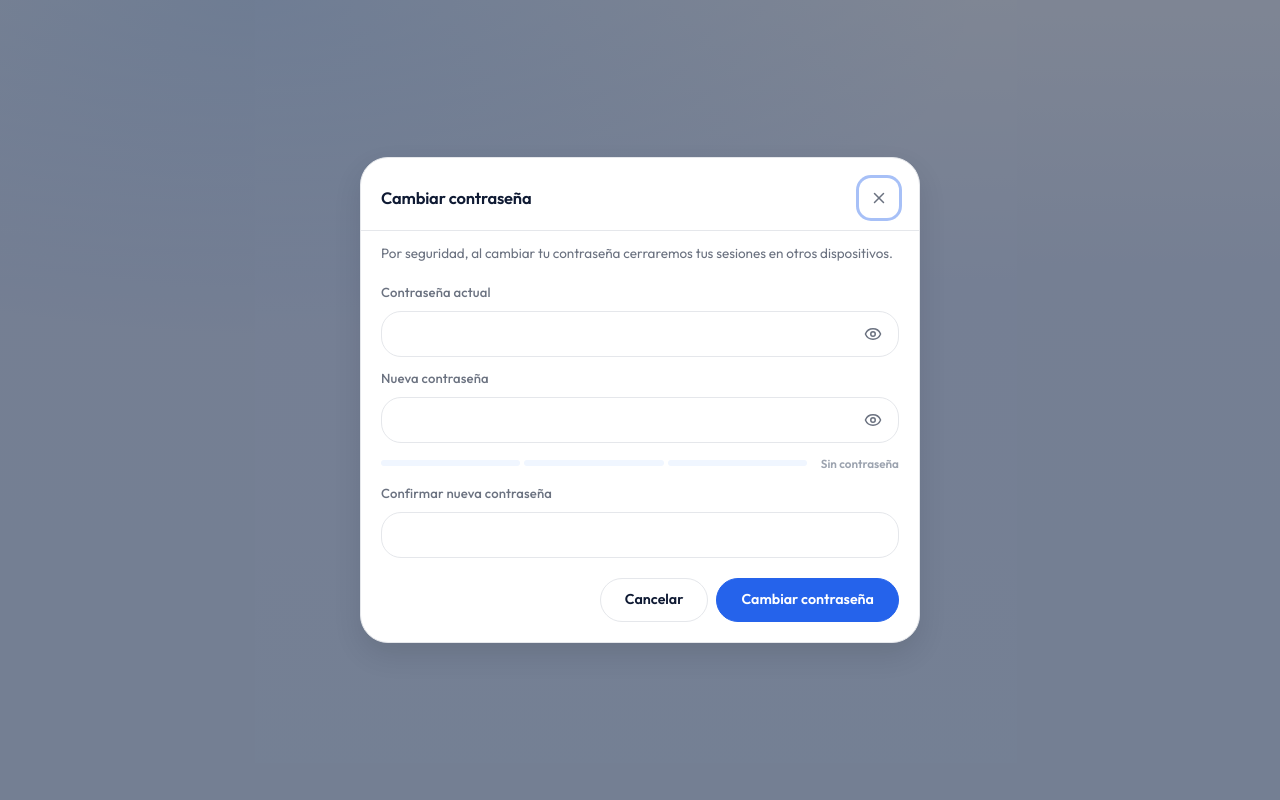
Scenario: CambiarPasswordModal › rechaza si las contraseñas nueva y confirmar no coinciden
The image size is (1280, 800).
In the password field labelled "Contraseña actual": (619, 334) [382,312,856,356], type "AnteriorPwd1"
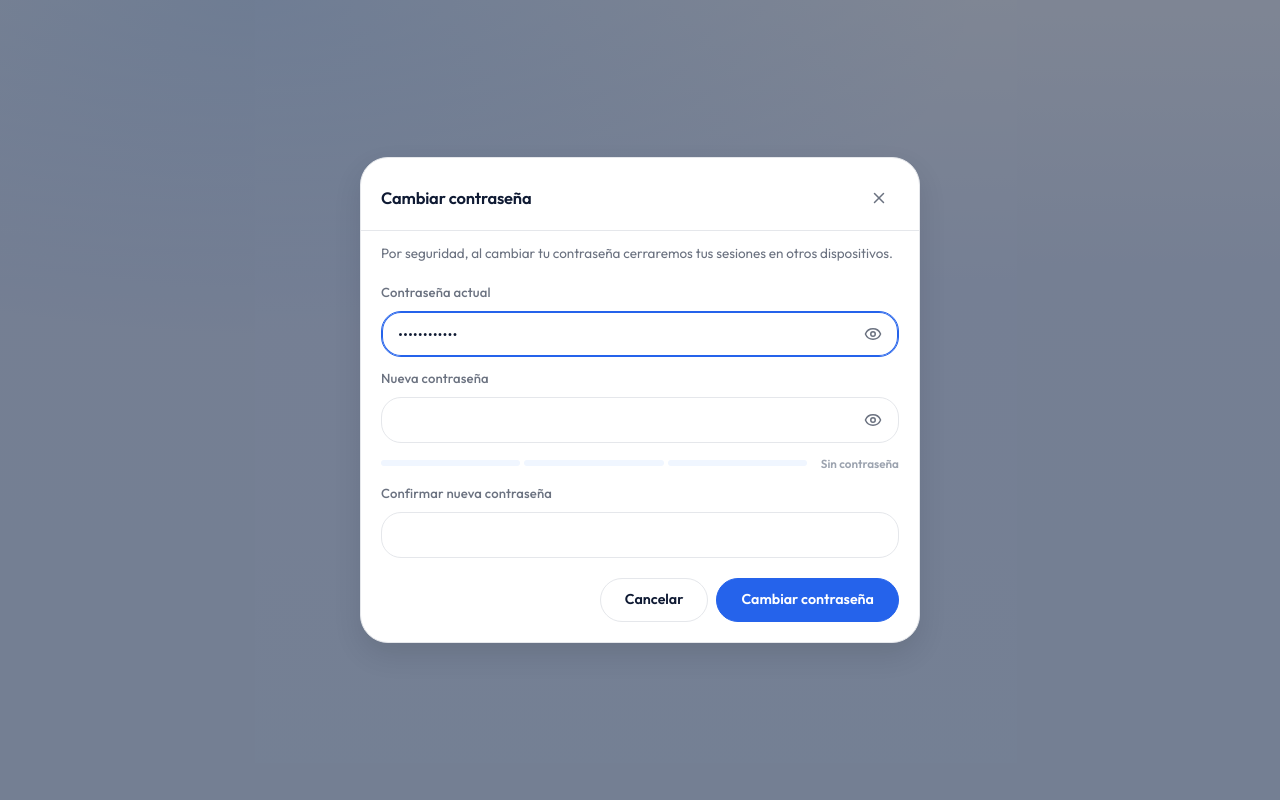
In the password field labelled "Nueva contraseña": (619, 420) [382,398,856,442], type "NuevaSecreta123"
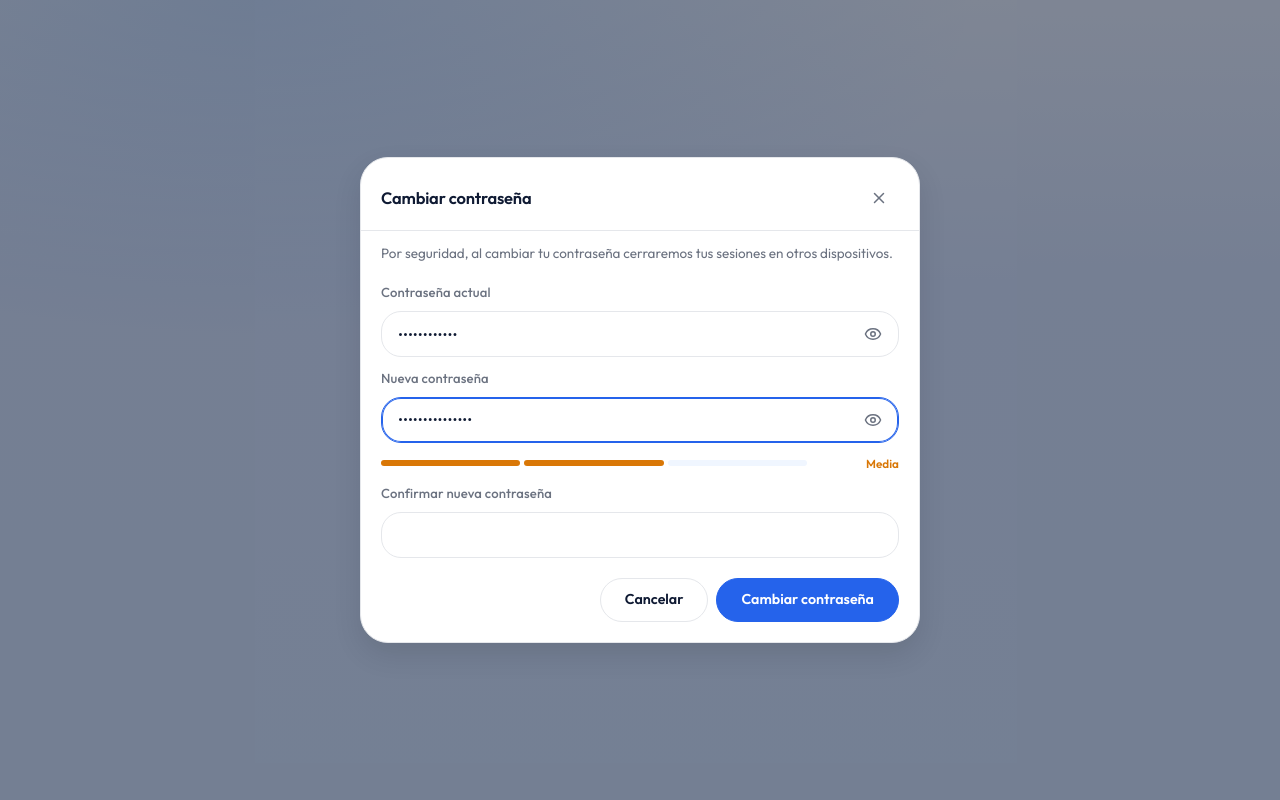
In the password field labelled "Confirmar nueva contraseña": (640, 535) [382,513,898,557], type "OtraDistinta123"
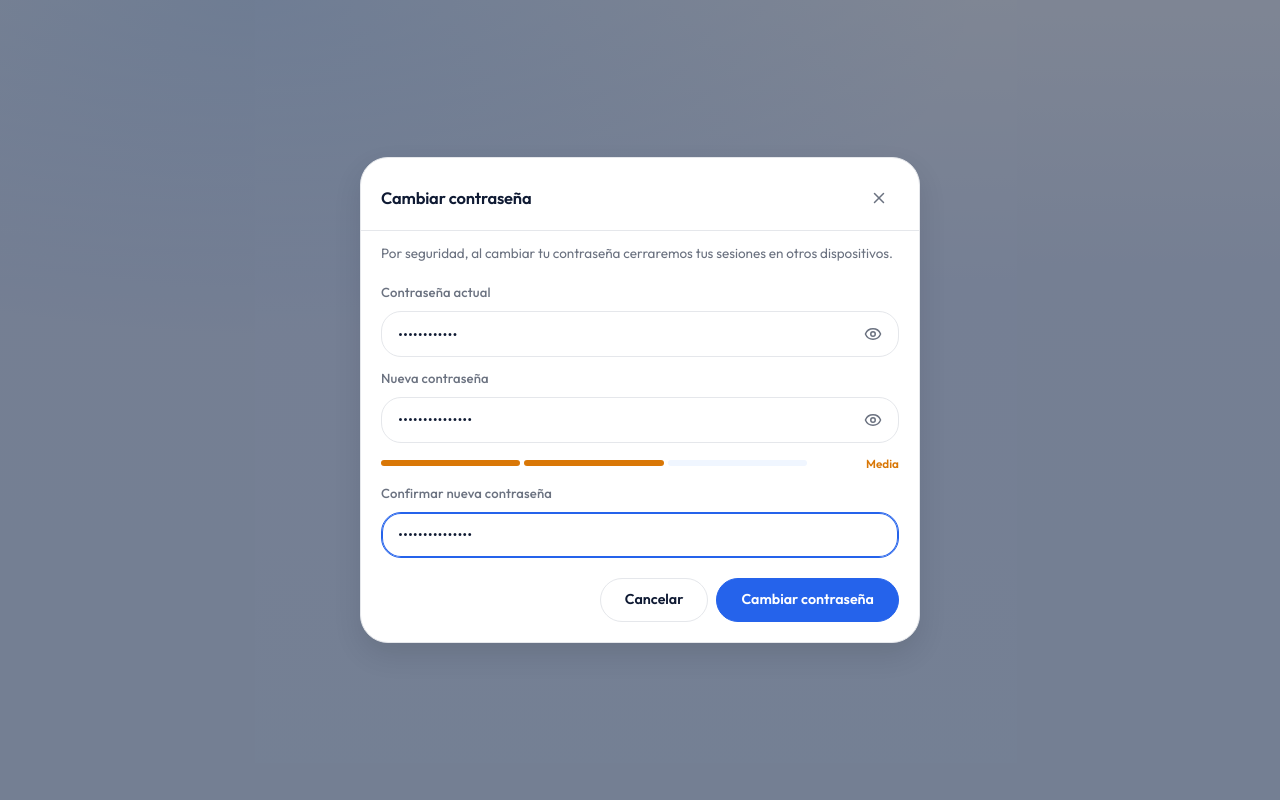
Click the button "Cambiar contraseña": (808, 600) [716,578,899,622]
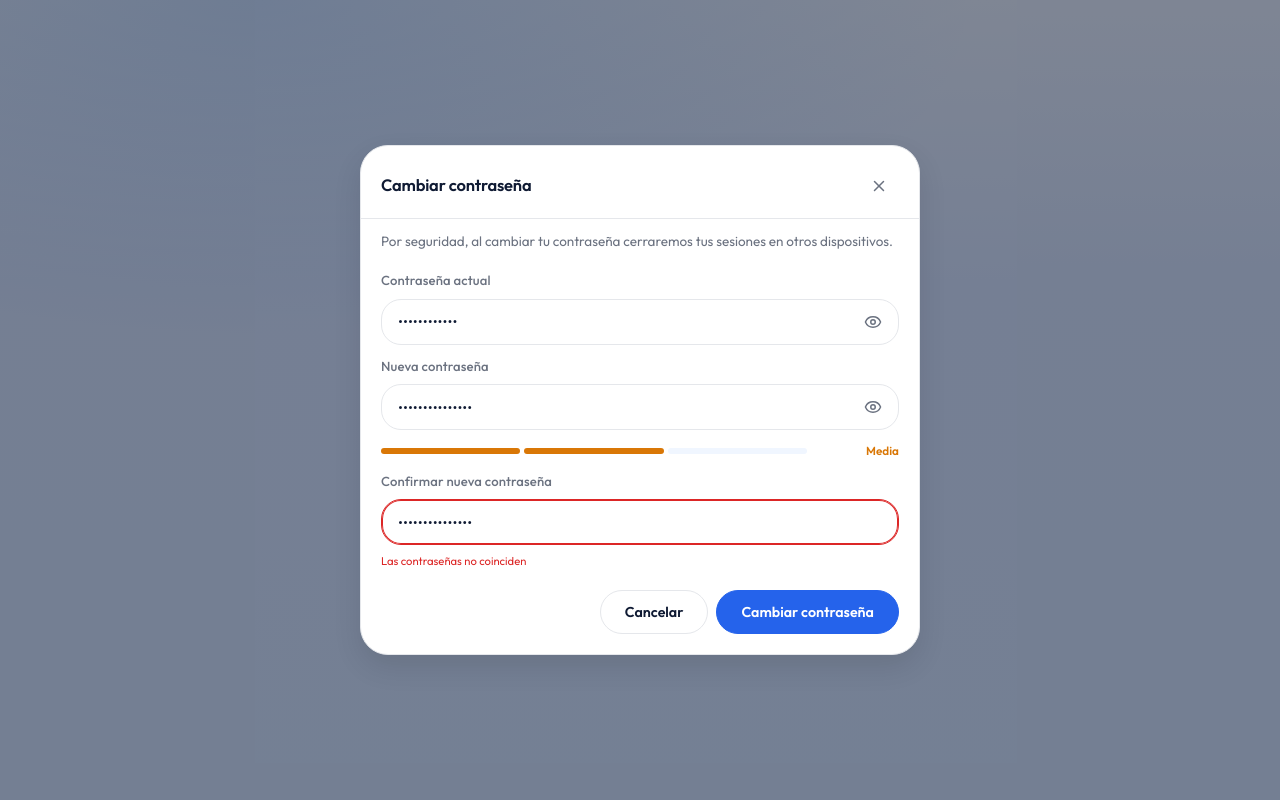
expect the text "Las contraseñas no coinciden" is shown: met, box [381,554,526,568]
